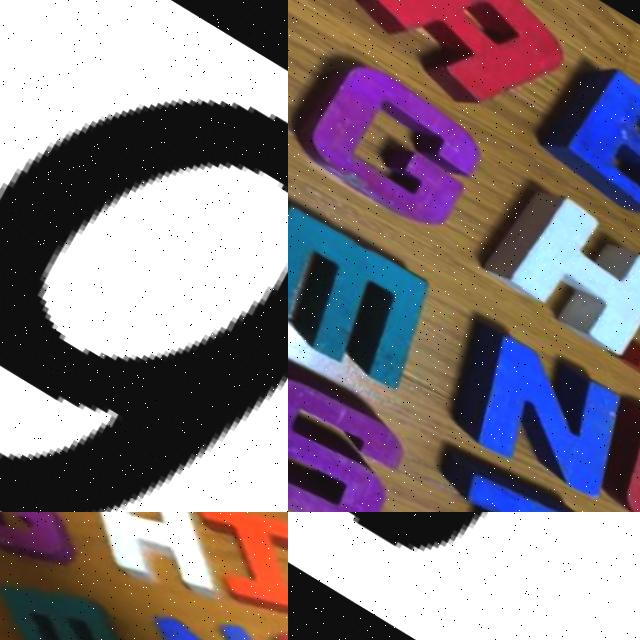A: (336, 0, 587, 132)
B: (527, 53, 640, 236)
G: (0, 0, 288, 512), (288, 49, 501, 243), (0, 512, 105, 592)
H: (467, 178, 640, 368), (44, 512, 247, 620)
I: (165, 512, 288, 640)
J: (288, 512, 640, 640)
M: (288, 185, 436, 387), (0, 561, 174, 640)
N: (424, 317, 633, 505)
O: (569, 396, 640, 512)
S: (288, 335, 423, 512)
T: (385, 444, 588, 512)
